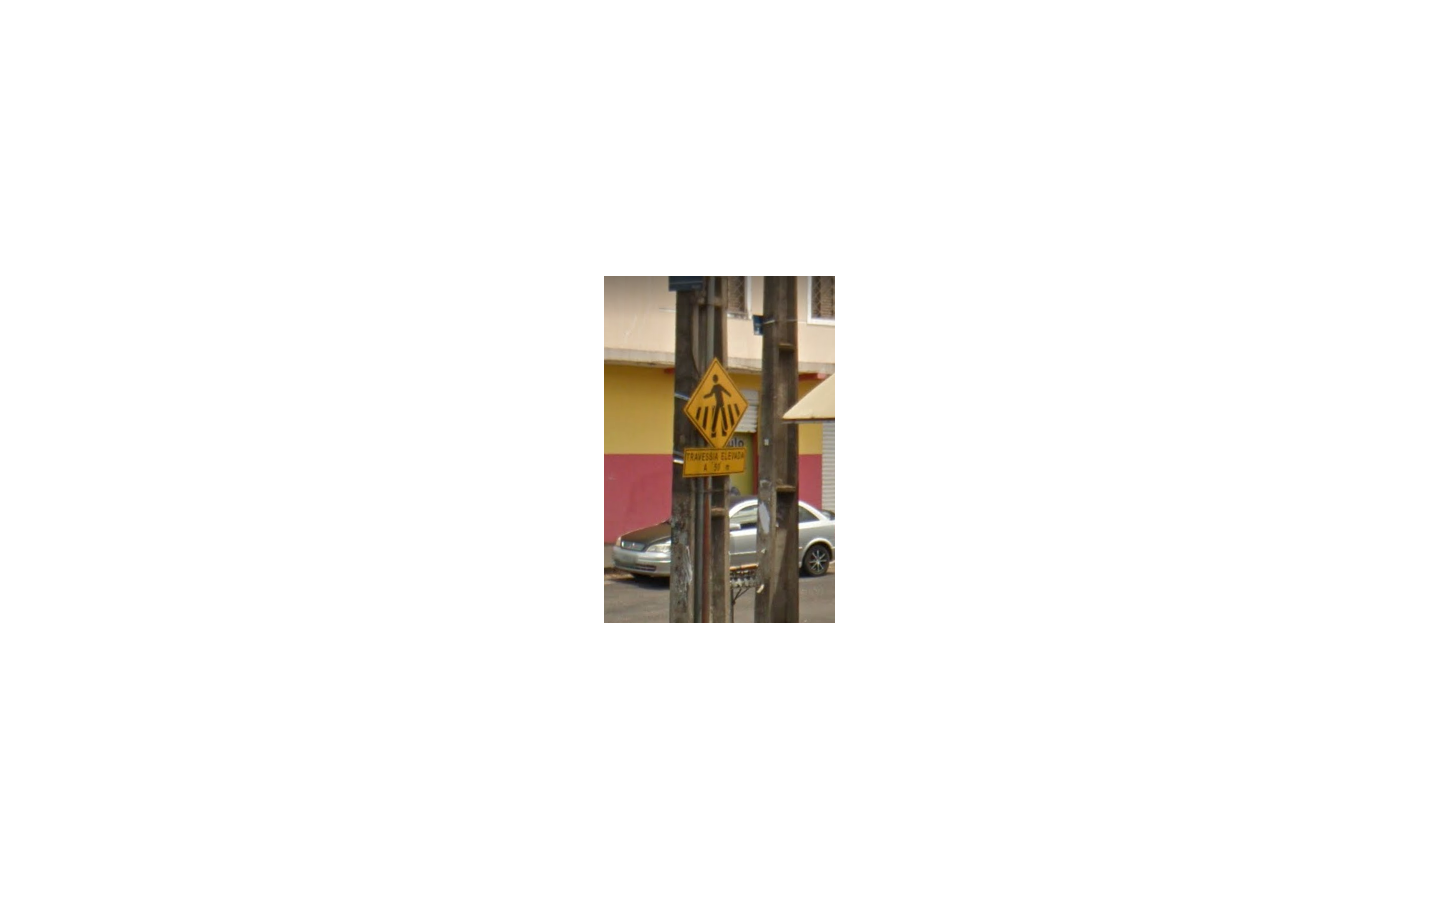t50m: (683, 358, 749, 476)
